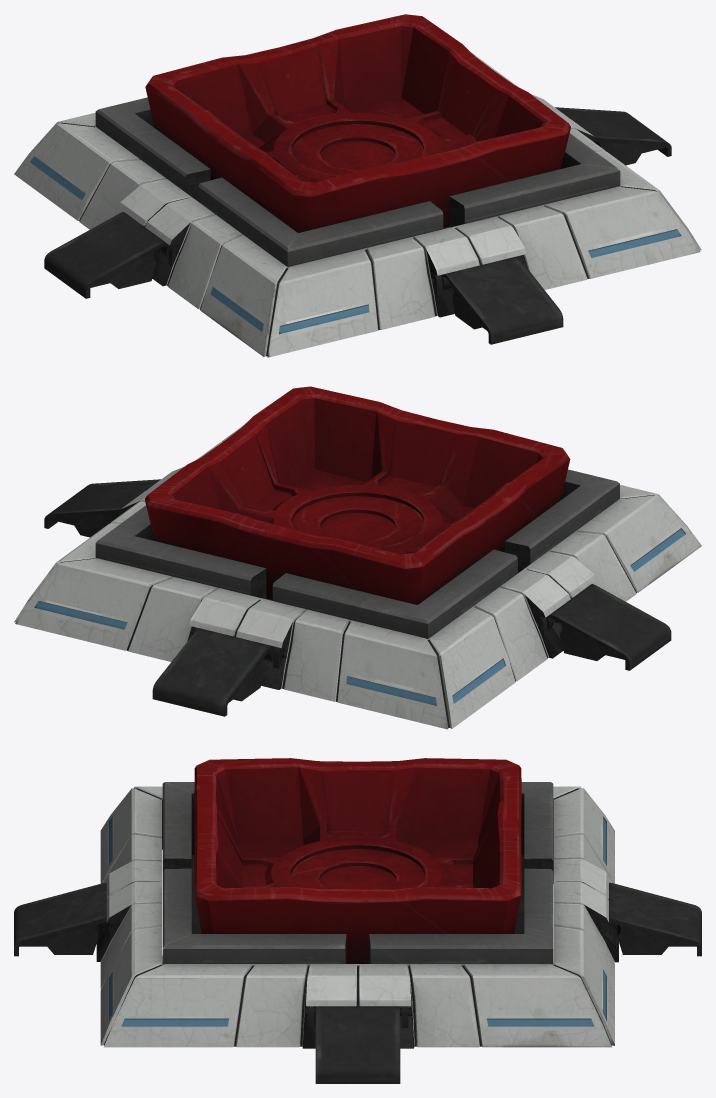
Rendered from box_socket.obj.
3 views of the same model, one above another, from view 1: azimuth 30°, elevation 25°; view 2: azimuth 150°, elevation 25°; view 3: azimuth 270°, elevation 25° (orthographic).
Visible parts, largest first — view 1: g0; view 2: g0; view 3: g0.
Boxes of the visible parts, x1,y1,x2,y2 form: g0: (14,14,701,357); g0: (14,386,701,729); g0: (14,758,701,1083).
Bounding box in the file's own units: 104 × 18.78 × 104.
Materials: 1 (1 with a texture image).
